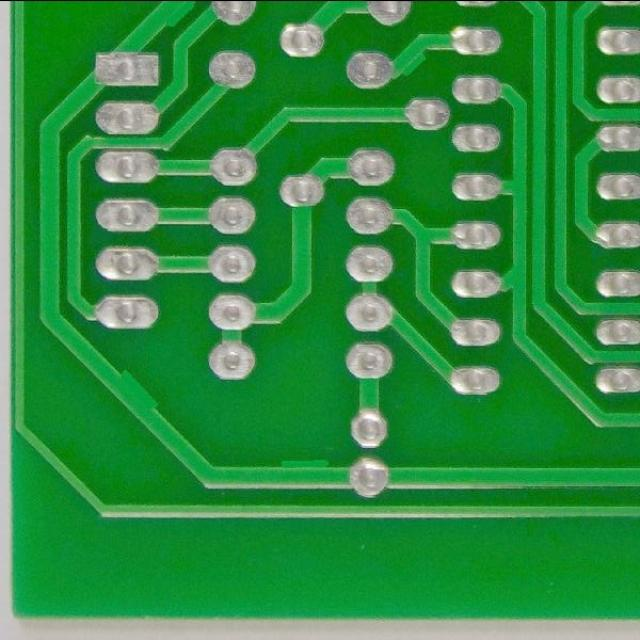Spur: (106, 361, 170, 426), (275, 451, 338, 492), (151, 1, 204, 33), (392, 44, 433, 83)
